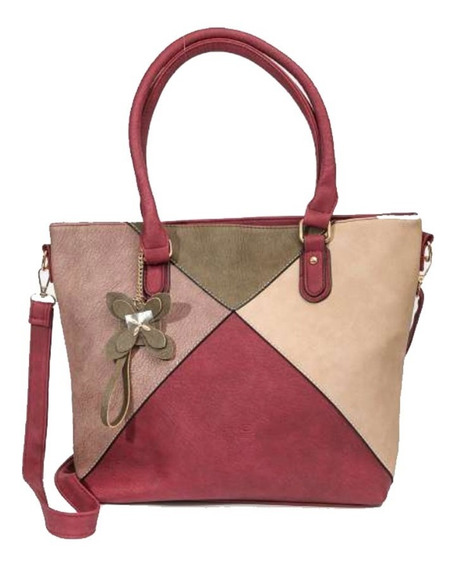cartera: (22, 26, 436, 542)
